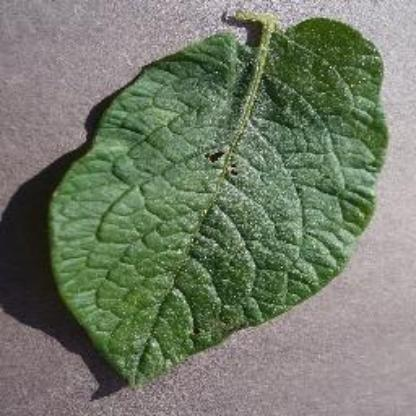Healthy-plant: (41, 9, 397, 390)
